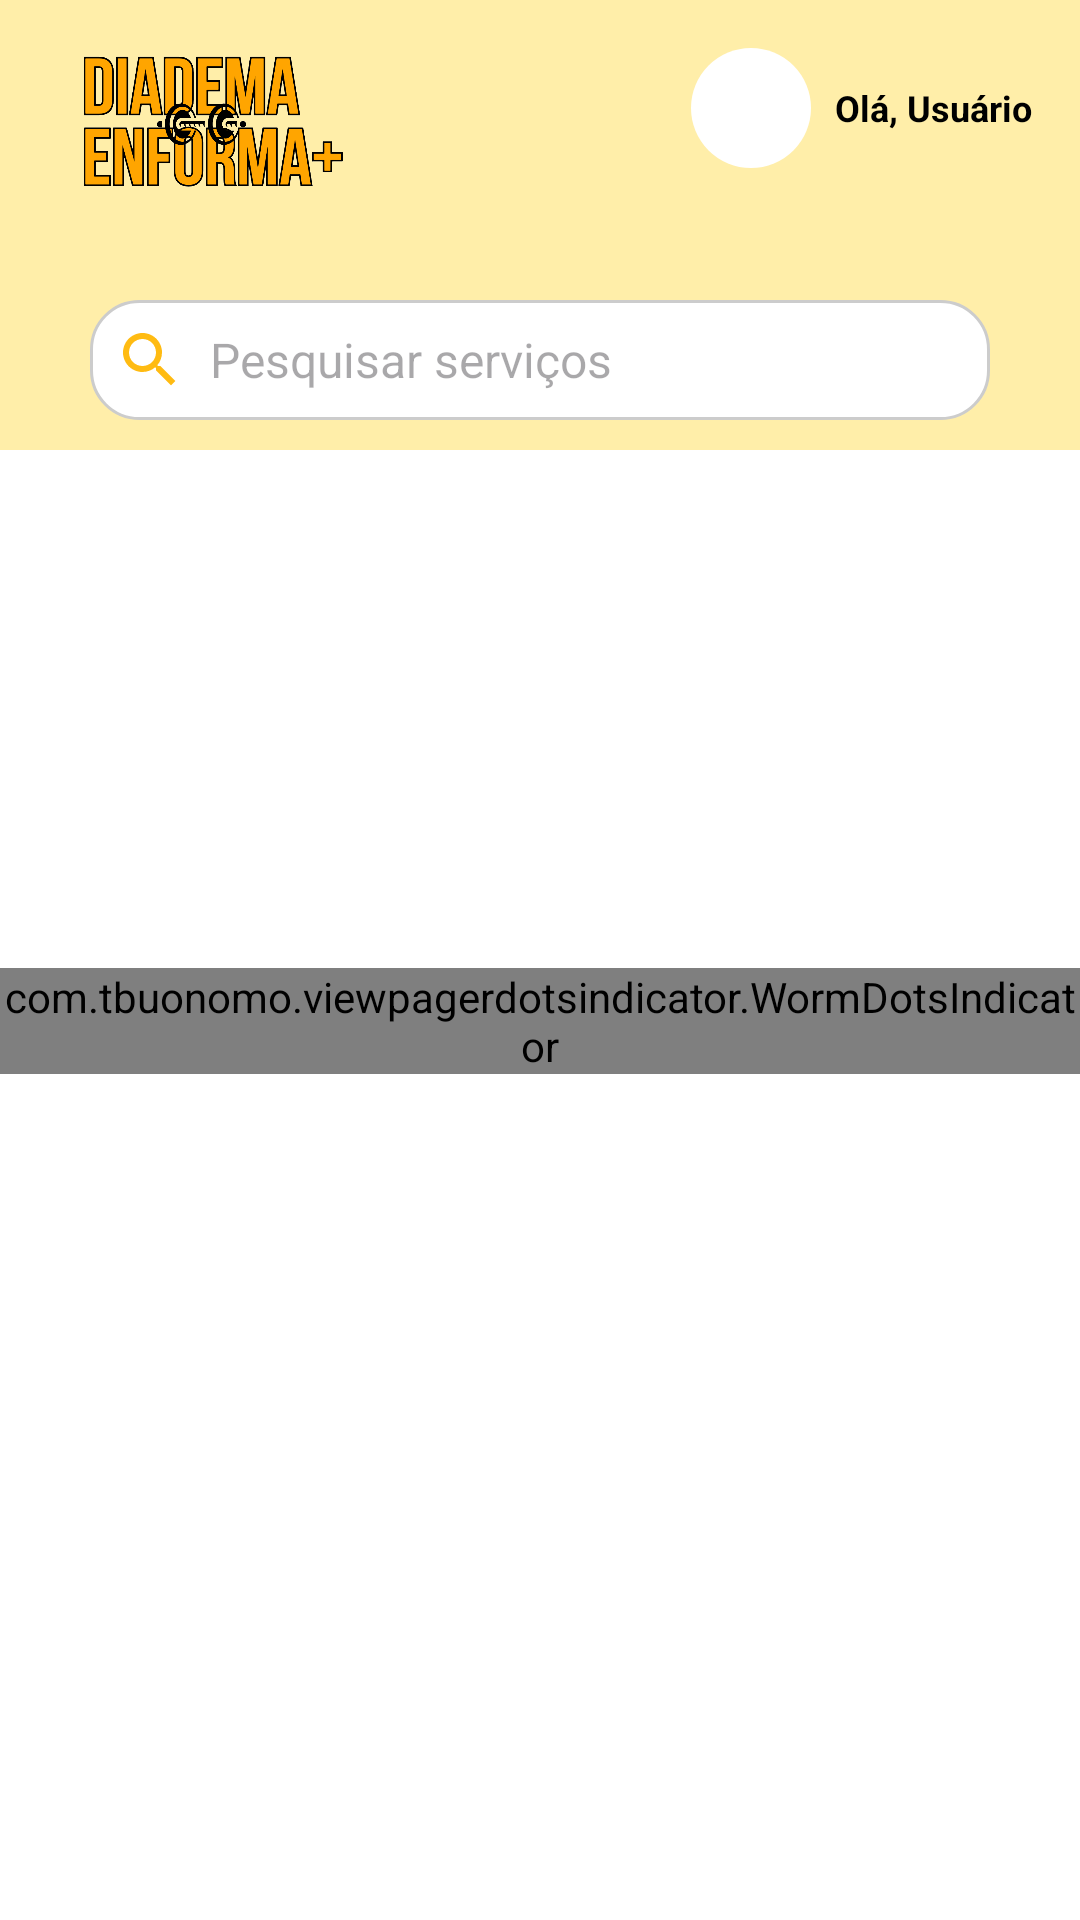

Point at icon controls on the screen. Image size 1080w x 1920h, points as (x,y).
Ícone de pesquisa: (149,359)
